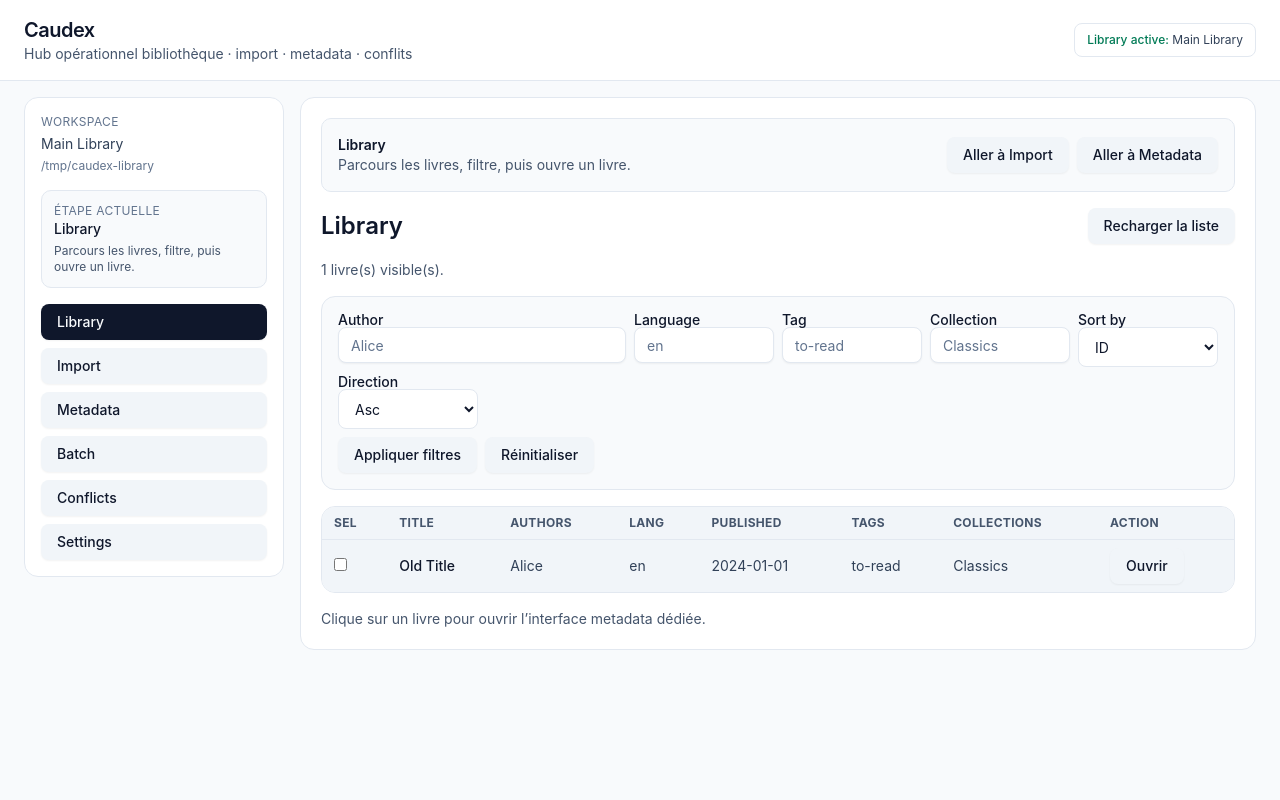
Scenario: workspace flow › loads metadata and saves edited values including tags/collections
Click the button "Metadata" at (154, 410), box [41,392,267,428]
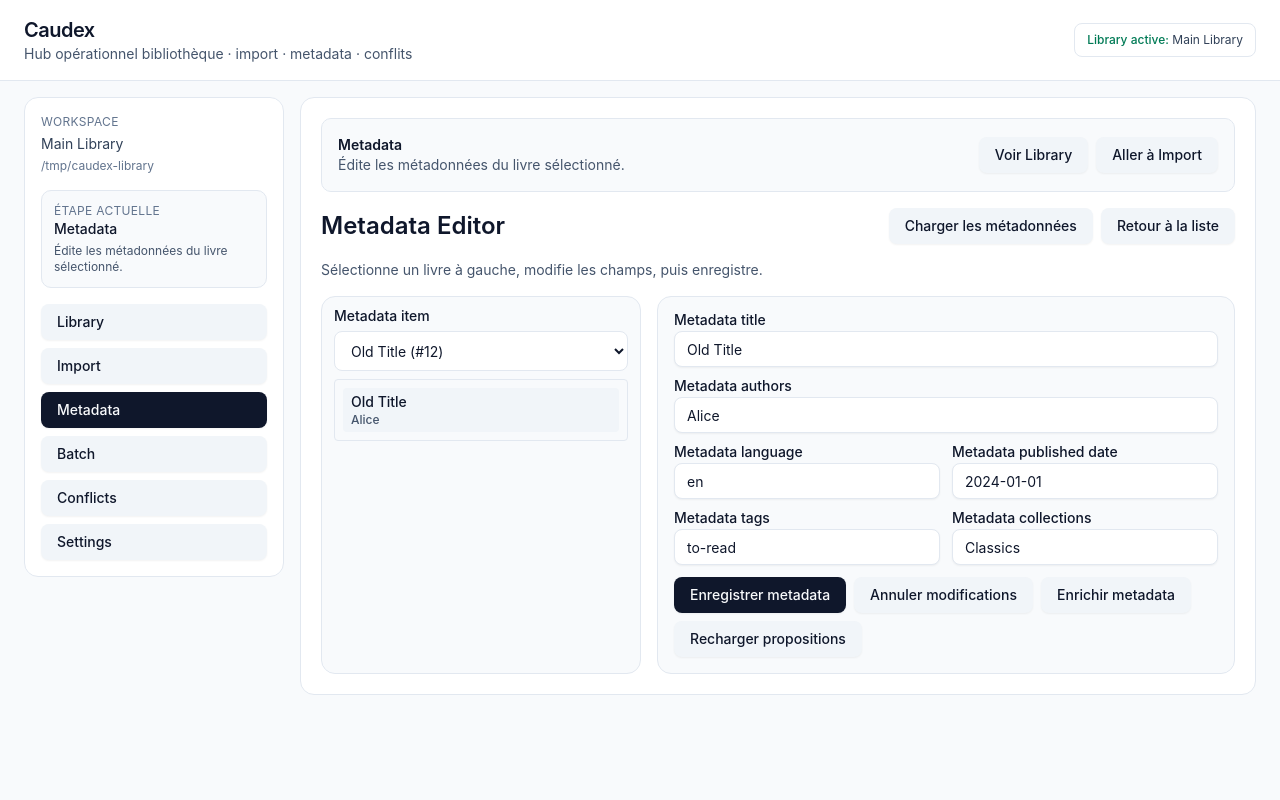
Replace the text in the field labelled "Metadata title" with "New Title" at (946, 349), box [674,331,1218,367]
Replace the text in the field labelled "Metadata authors" with "Alice, Bob" at (946, 415), box [674,397,1218,433]
Replace the text in the field labelled "Metadata language" with "fr" at (807, 481), box [674,463,940,499]
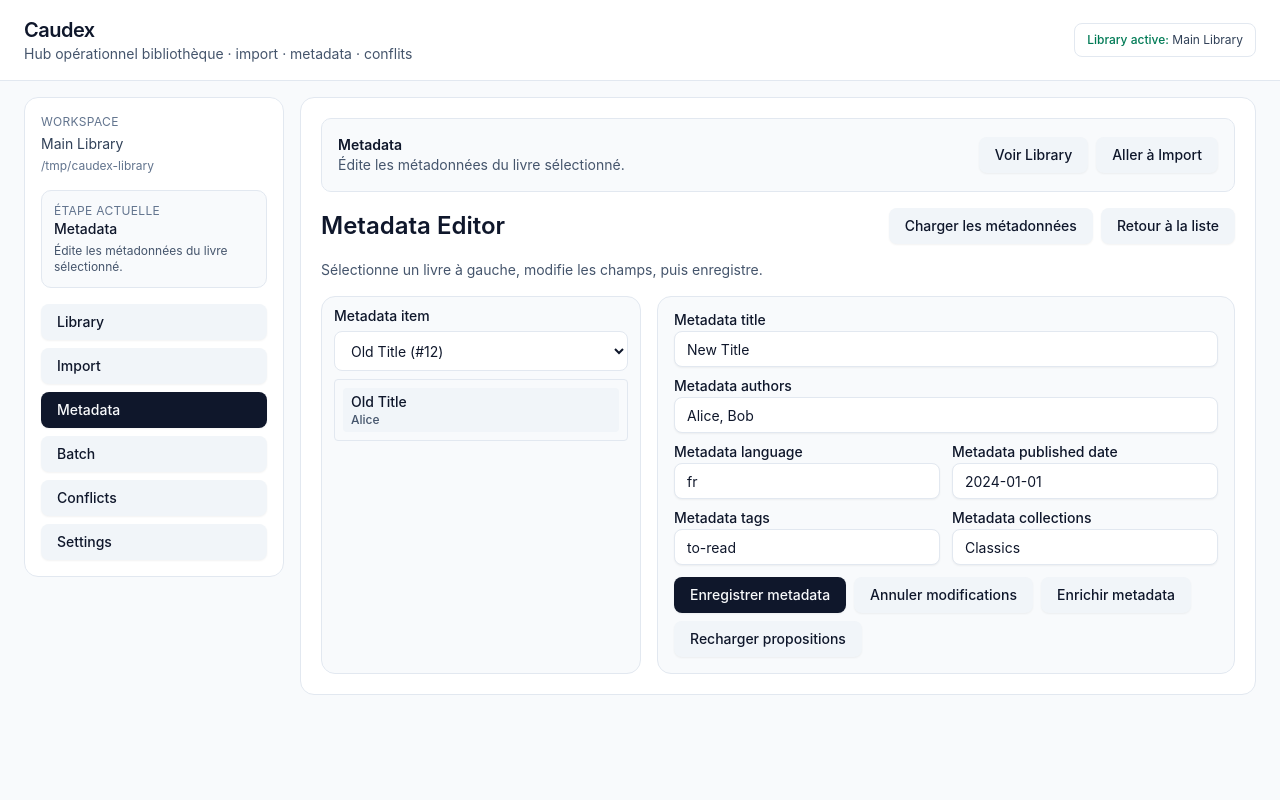
Replace the text in the field labelled "Metadata published date" with "2024-12-31" at (1085, 481), box [952,463,1218,499]
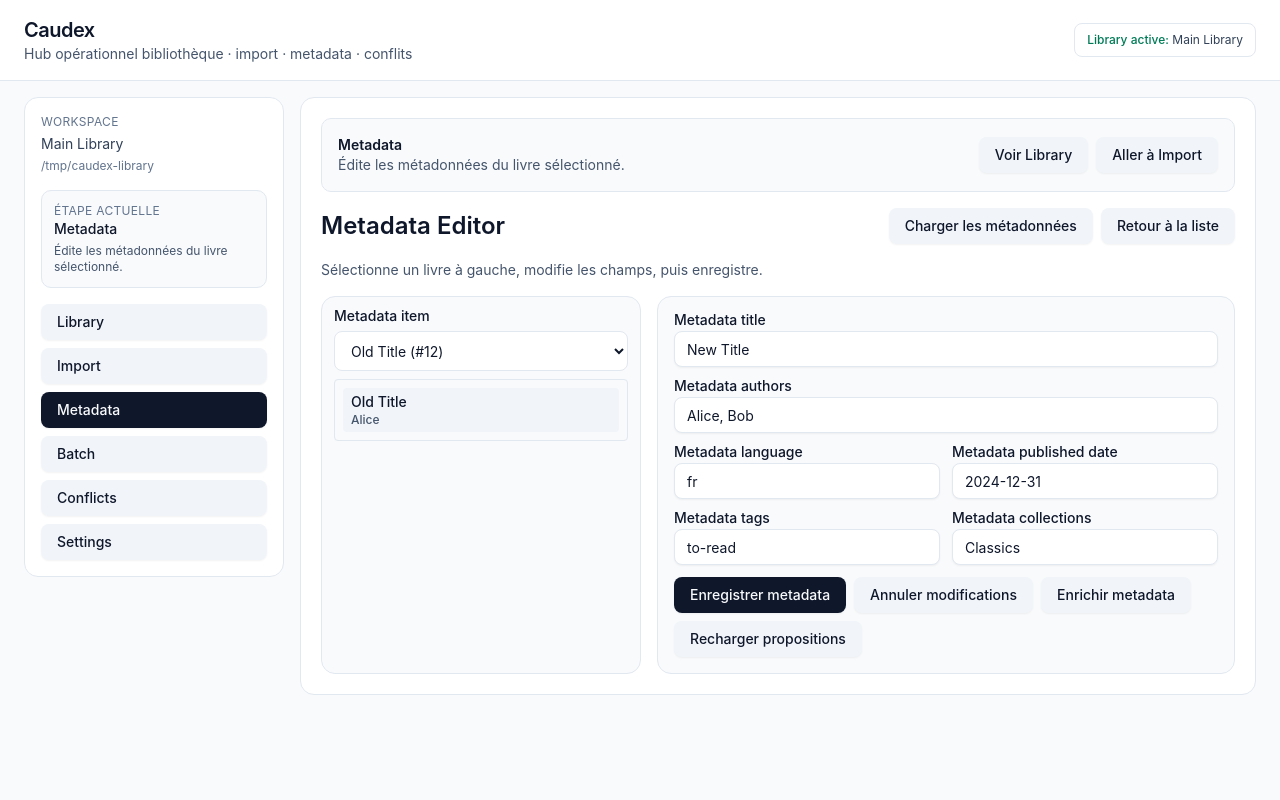
Replace the text in the field labelled "Metadata tags" with "favorite, batch-updated" at (807, 547), box [674,529,940,565]
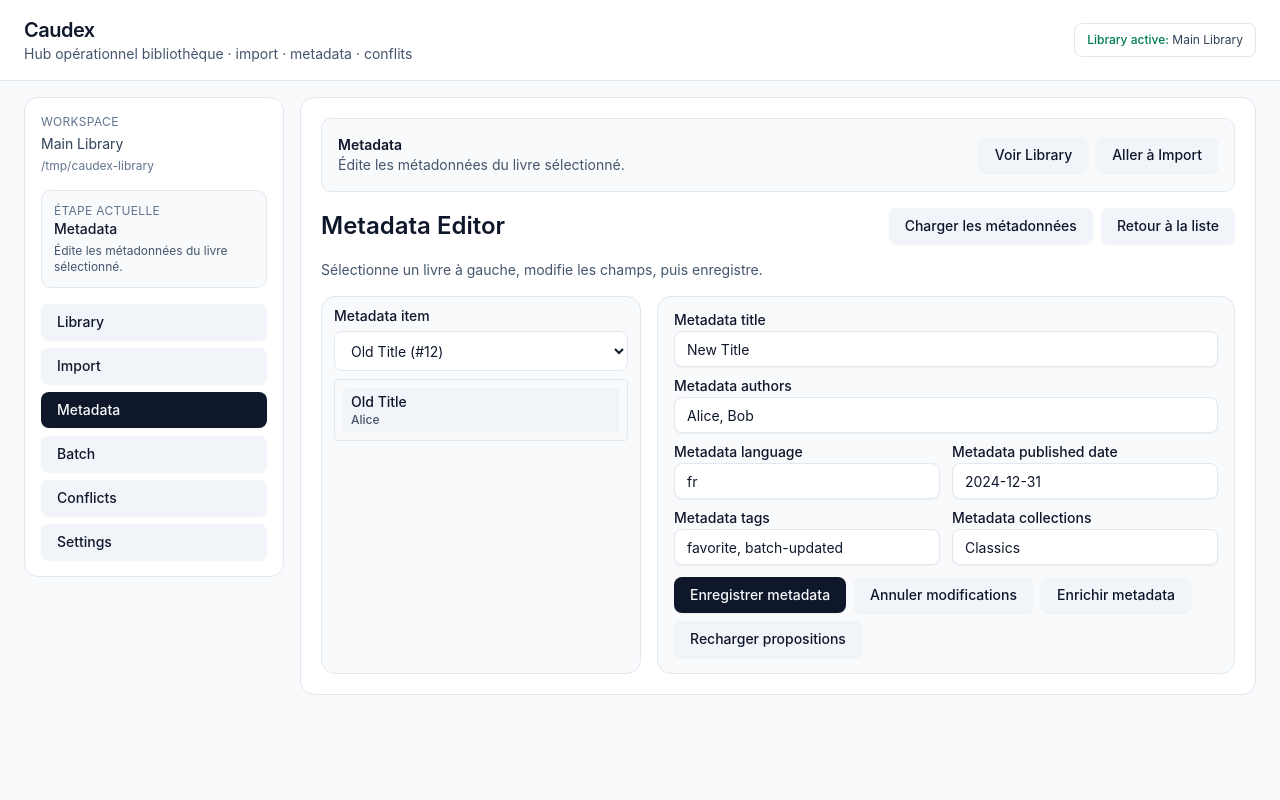
Replace the text in the field labelled "Metadata collections" with "Curated" at (1085, 547), box [952,529,1218,565]
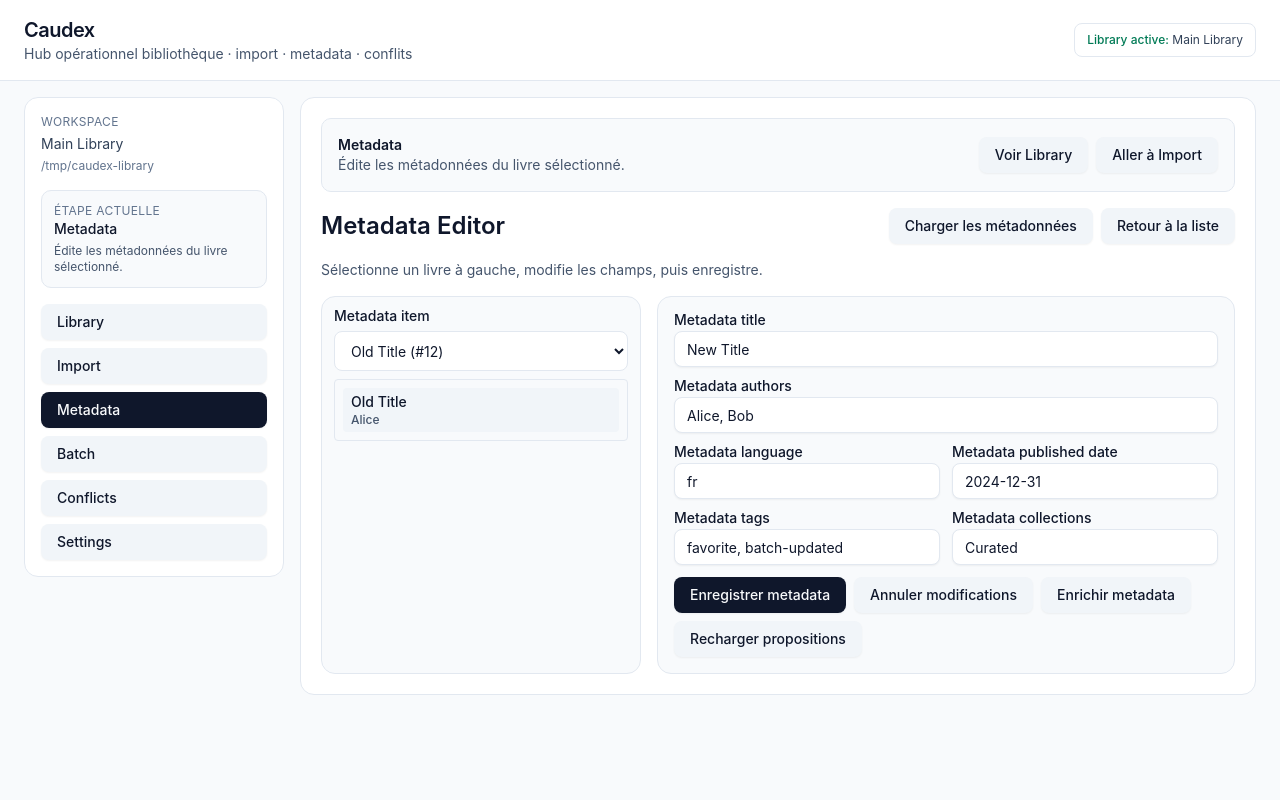
Click the button "Enregistrer metadata" at (760, 595), box [674,577,846,613]
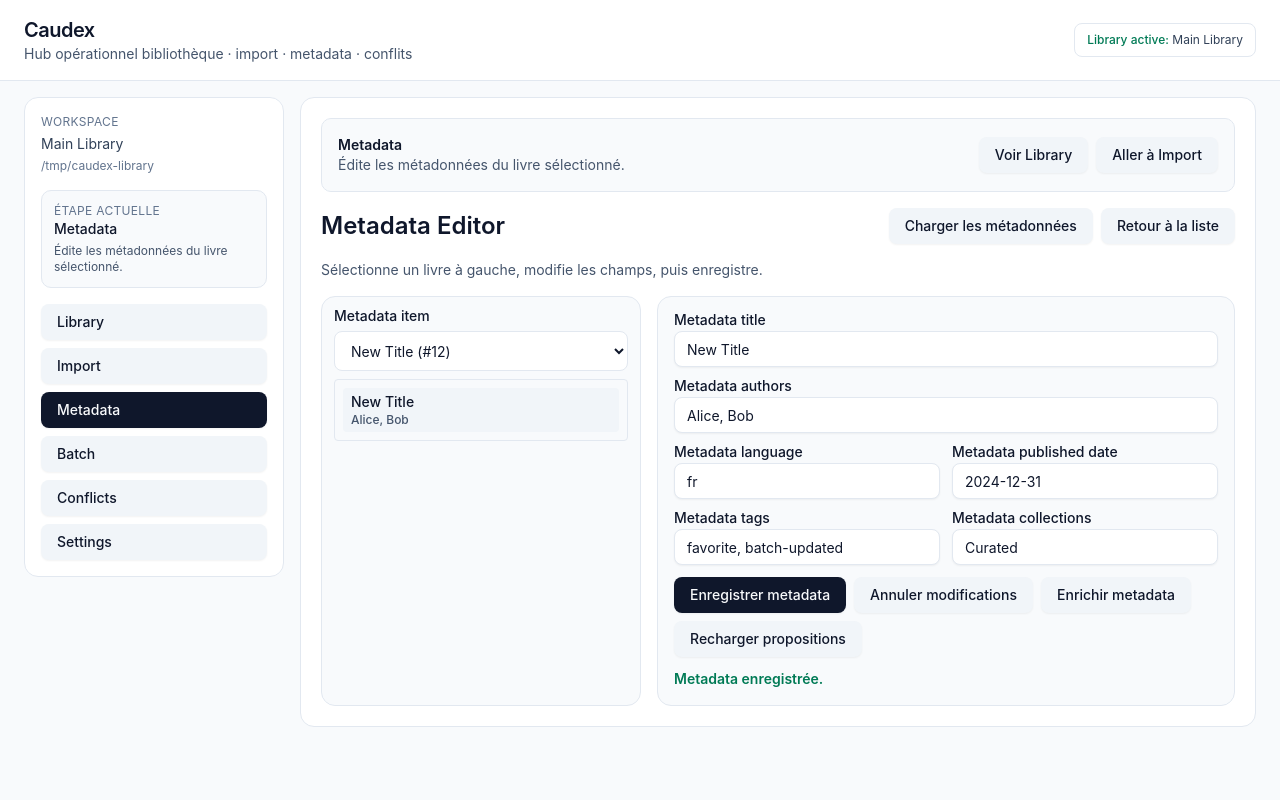
Check: the text "Metadata enregistrée." is shown, box [674,670,823,687]
